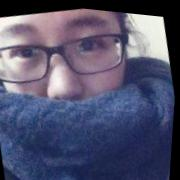WRONG: (1, 1, 149, 174)
